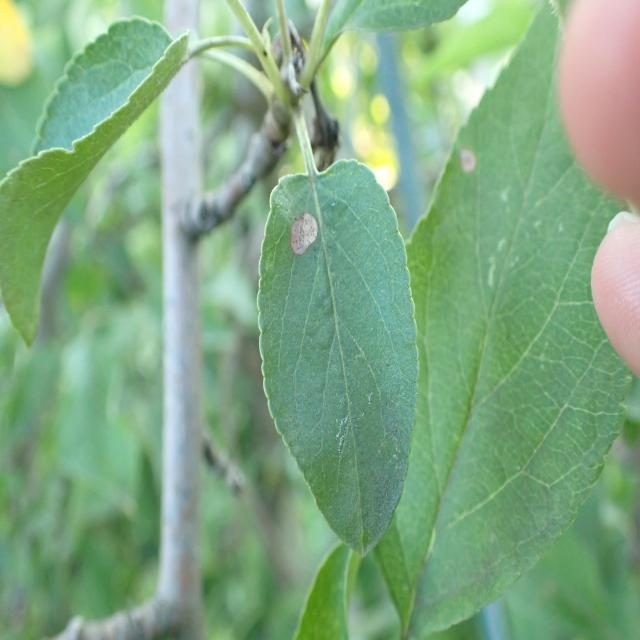Black Rot: (271, 202, 329, 270), (454, 138, 486, 178)
